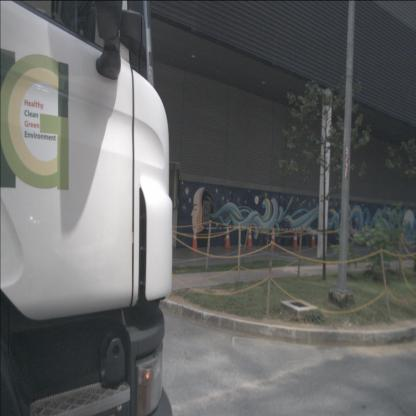cone: (222, 224, 232, 249), (190, 225, 199, 252), (246, 225, 254, 249), (268, 227, 276, 248), (291, 228, 298, 248), (310, 227, 316, 248)
